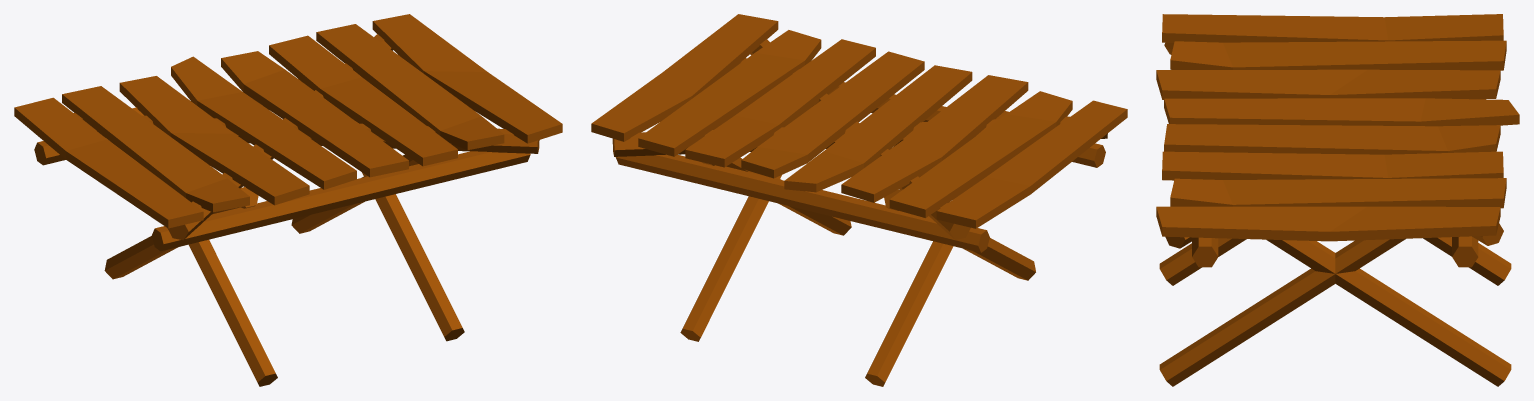
Rendered from GEO_dock_04.fbx.
The picture shows the model from 3 angles, left to right: view 1: azimuth 30°, elevation 25°; view 2: azimuth 150°, elevation 25°; view 3: azimuth 270°, elevation 25°; orthographic projection. The views are drawn at different scales.
Parts seen in each view (by area): view 1: dock_04; view 2: dock_04; view 3: dock_04.
Boxes of the visible parts, x1,y1,x2,y2 form: dock_04: (14,14,562,386); dock_04: (591,14,1127,386); dock_04: (1156,14,1519,386).
Bounding box in the file's own units: 478 × 223 × 342.
